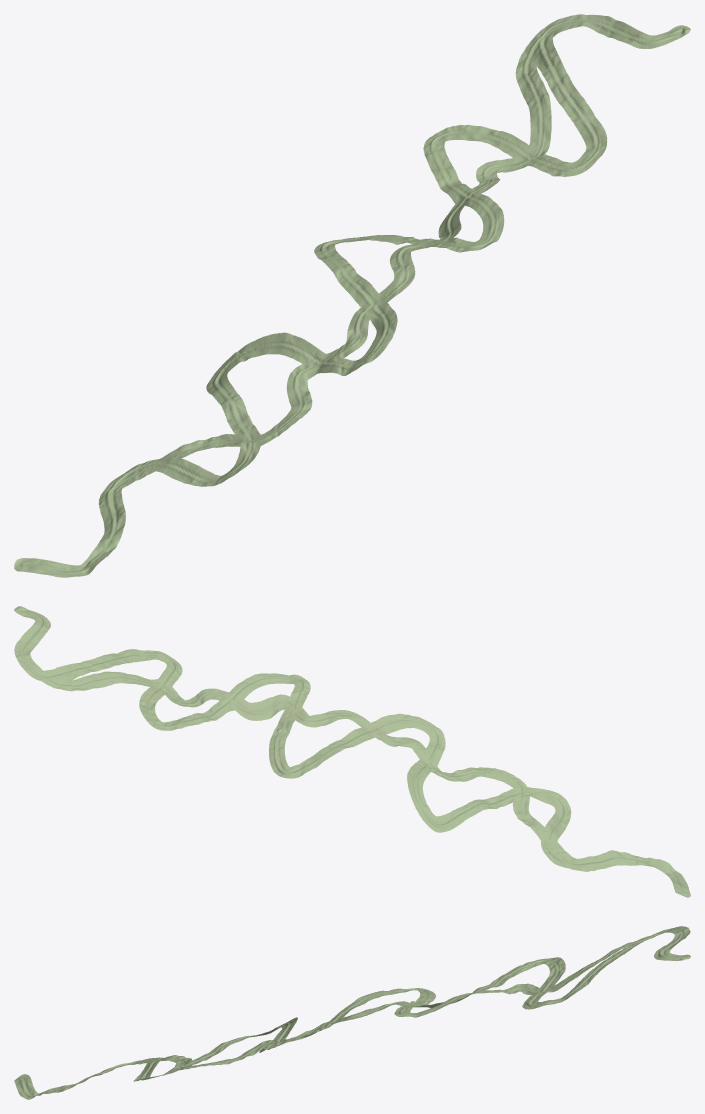
Rendered from corridor-v4-high.glb.
The picture shows the model from 3 angles, top to bottom: view 1: azimuth 30°, elevation 25°; view 2: azimuth 150°, elevation 25°; view 3: azimuth 330°, elevation 25°; orthographic projection. The views are drawn at different scales.
Visible parts, largest first — view 1: Trail / 11 11, Trail / 12 10, Trail / 7 13, Trail / 6 13, Trail / 5 13, Trail / 8 13, Trail / 10 11, Trail / 7 12, Trail / 9 12, Trail / 8 12, Trail / 11 10, Trail / 11 12 (+3 smaller); view 2: Trail / 9 12, Trail / 11 11, Trail / 12 10, Trail / 5 13, Trail / 6 13, Trail / 7 13, Trail / 8 13, Trail / 10 11, Trail / 10 12, Trail / 7 12, Trail / 8 12, Trail / 11 10 (+7 smaller); view 3: Trail / 11 11, Trail / 10 11, Trail / 6 13, Trail / 7 13, Trail / 9 12, Trail / 12 10, Trail / 8 12, Trail / 5 13, Trail / 11 12, Trail / 8 13, Trail / 10 10, Trail / 11 10.
Part boxes in pixels (x1,y1,x2,y2): Trail / 11 11: (480, 81, 603, 169); Trail / 12 10: (522, 14, 637, 81); Trail / 7 13: (284, 345, 372, 422); Trail / 6 13: (178, 398, 295, 480); Trail / 5 13: (99, 448, 215, 517); Trail / 8 13: (343, 278, 413, 360); Trail / 10 11: (427, 138, 516, 217); Trail / 7 12: (211, 332, 315, 382); Trail / 9 12: (390, 216, 492, 277); Trail / 8 12: (328, 260, 411, 323); Trail / 11 10: (469, 54, 560, 137); Trail / 11 12: (538, 128, 607, 176); Trail / 9 12: (246, 678, 342, 735); Trail / 11 11: (89, 650, 177, 708); Trail / 12 10: (14, 627, 88, 688); Trail / 5 13: (533, 813, 615, 871); Trail / 6 13: (472, 769, 561, 829); Trail / 7 13: (413, 727, 499, 781); Trail / 8 13: (343, 710, 435, 748); Trail / 10 11: (150, 689, 246, 725); Trail / 10 12: (206, 673, 281, 717); Trail / 7 12: (407, 763, 448, 831); Trail / 8 12: (322, 711, 389, 753); Trail / 11 10: (59, 666, 149, 711); Trail / 11 11: (528, 957, 614, 997); Trail / 10 11: (459, 967, 554, 1000); Trail / 6 13: (147, 1043, 231, 1079); Trail / 7 13: (206, 1033, 288, 1065); Trail / 9 12: (363, 999, 457, 1016); Trail / 12 10: (618, 926, 690, 955); Trail / 8 12: (316, 994, 382, 1027); Trail / 5 13: (90, 1056, 170, 1080); Trail / 11 12: (522, 991, 577, 1009); Trail / 8 13: (269, 1016, 361, 1048); Trail / 10 10: (515, 957, 563, 970); Trail / 11 10: (555, 937, 644, 970).
Bounding box in the file's own units: 1238 × 412 × 543.
